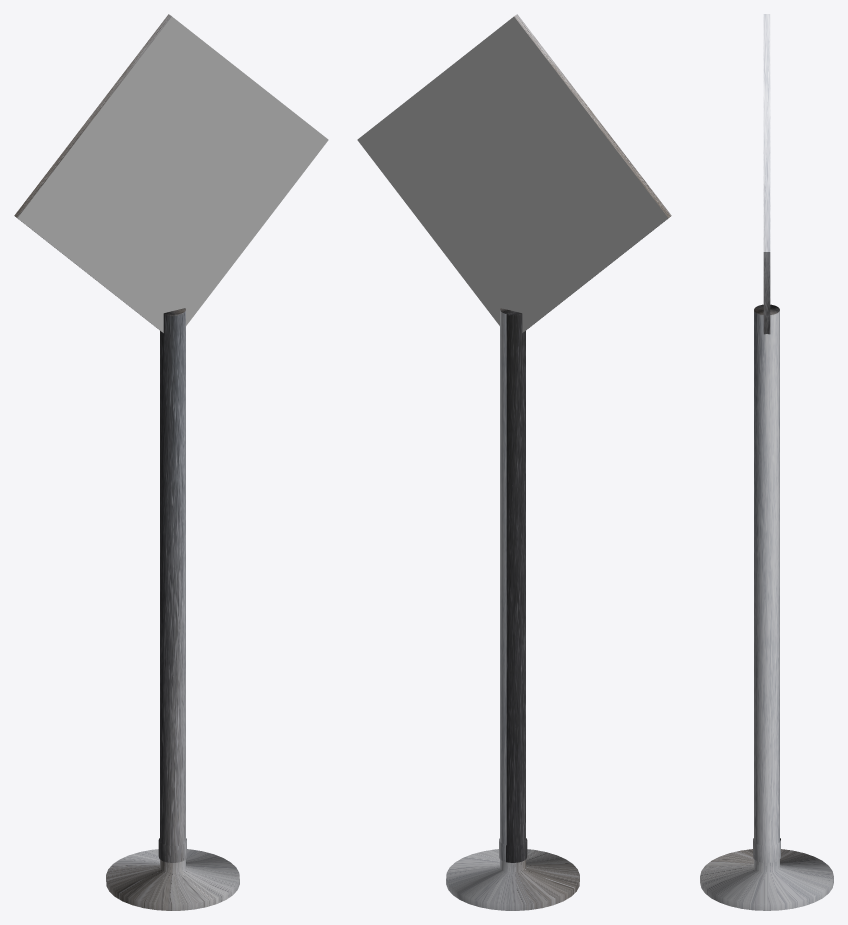
Rendered from Trafficlights1.fbx.
3 renders of one model, left to right at view 1: azimuth 30°, elevation 25°; view 2: azimuth 150°, elevation 25°; view 3: azimuth 270°, elevation 25°, orthographic.
Parts seen in each view (by area): view 1: Trafficsignal1; view 2: Trafficsignal1; view 3: Trafficsignal1.
Part boxes in pixels (x1,y1,x2,y2): Trafficsignal1: [14, 14, 328, 910]; Trafficsignal1: [357, 14, 671, 910]; Trafficsignal1: [700, 14, 833, 910].
Bounding box in the file's own units: 195 × 519 × 72.6.
